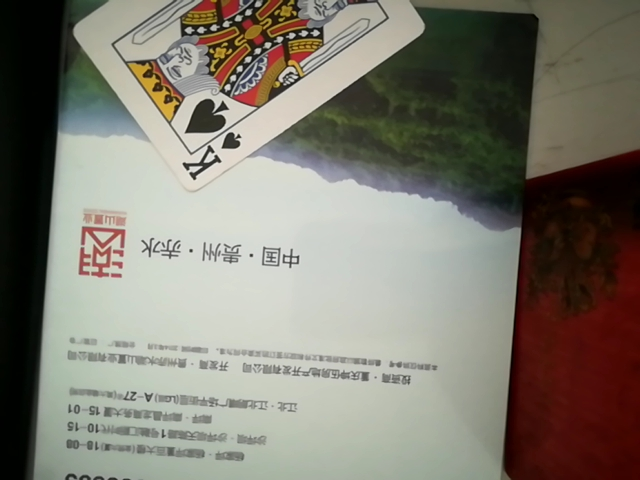ht k: (73, 0, 440, 180)
